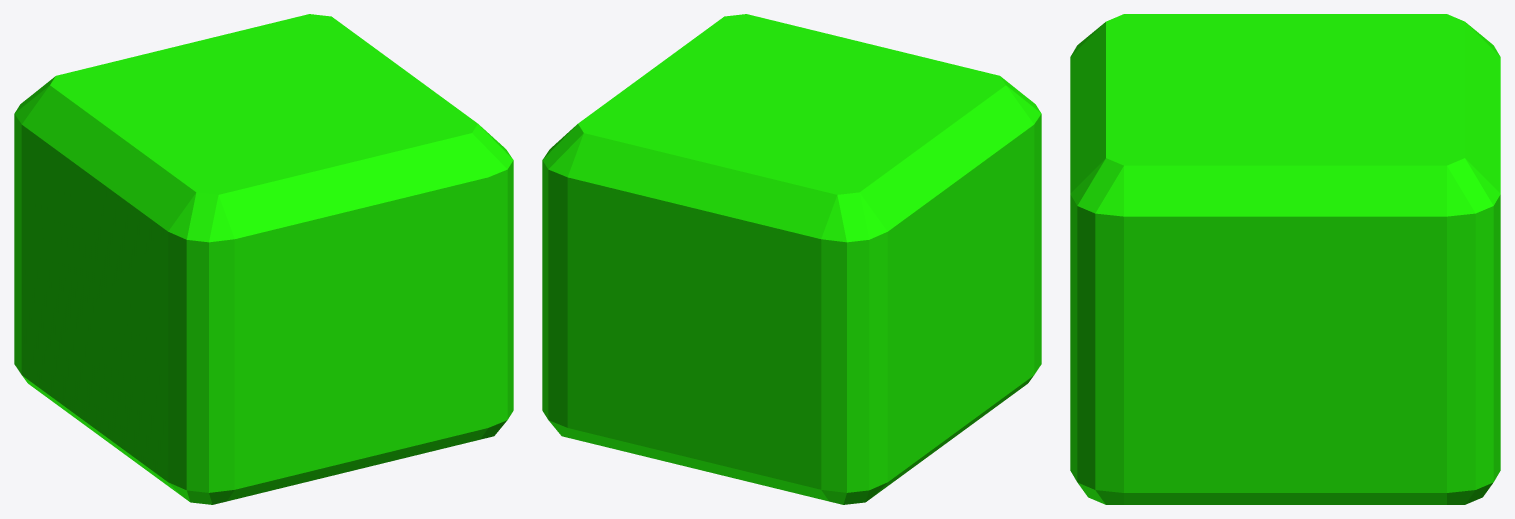
The model's file is Floor-Trim-Corner-1x1x1.FBX.
3 renders of one model, left to right at view 1: azimuth 30°, elevation 25°; view 2: azimuth 150°, elevation 25°; view 3: azimuth 270°, elevation 25°, orthographic. The views are drawn at different scales.
Visible parts, largest first — view 1: Floor-Trim-Corner-1x1x1; view 2: Floor-Trim-Corner-1x1x1; view 3: Floor-Trim-Corner-1x1x1.
Boxes of the visible parts, x1=… form: Floor-Trim-Corner-1x1x1: x1=14, y1=14, x2=513, y2=504; Floor-Trim-Corner-1x1x1: x1=542, y1=14, x2=1041, y2=504; Floor-Trim-Corner-1x1x1: x1=1070, y1=14, x2=1500, y2=504.
Bounding box in the file's own units: 12 × 10.2 × 12.
